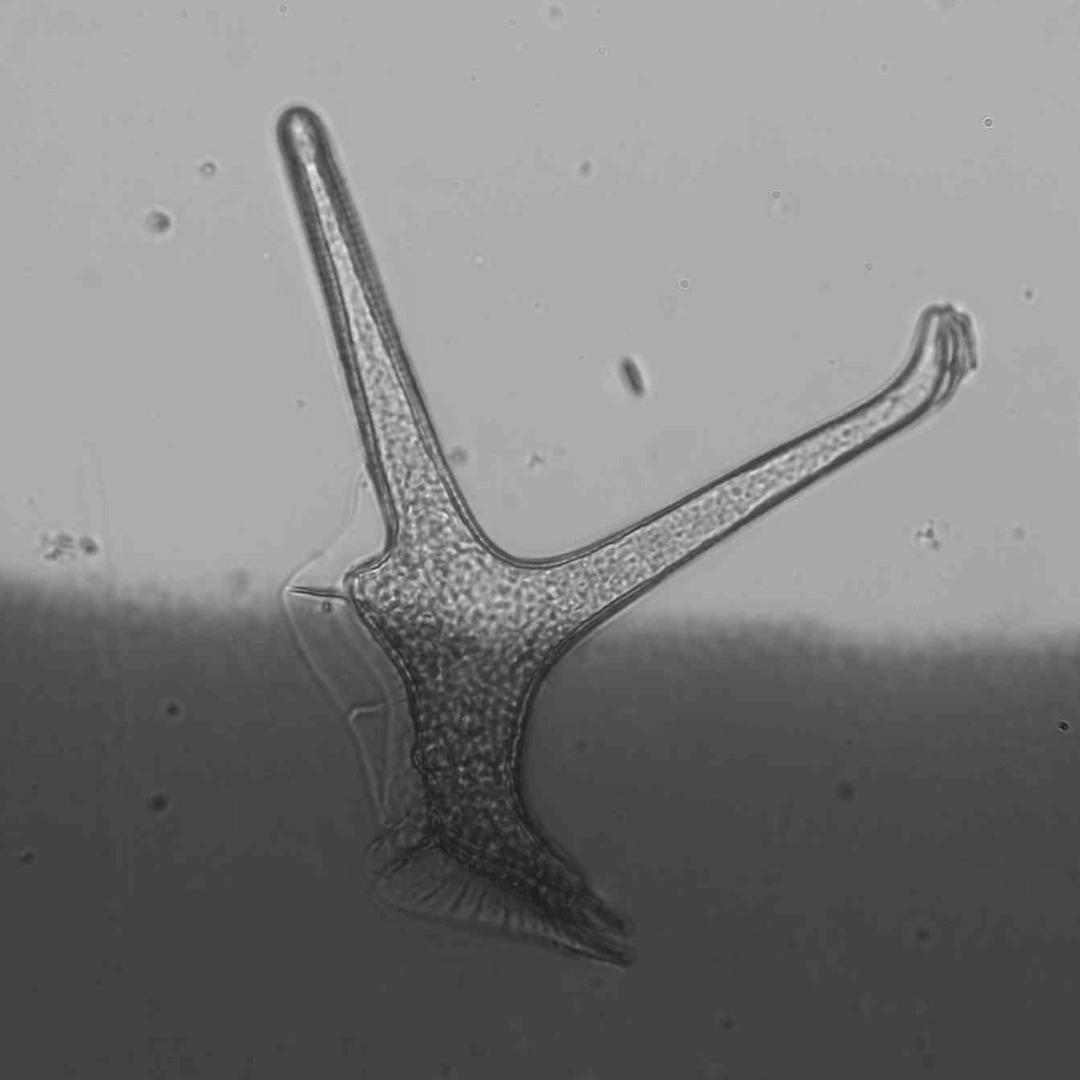dinophysis_miles: (277, 109, 967, 965)
